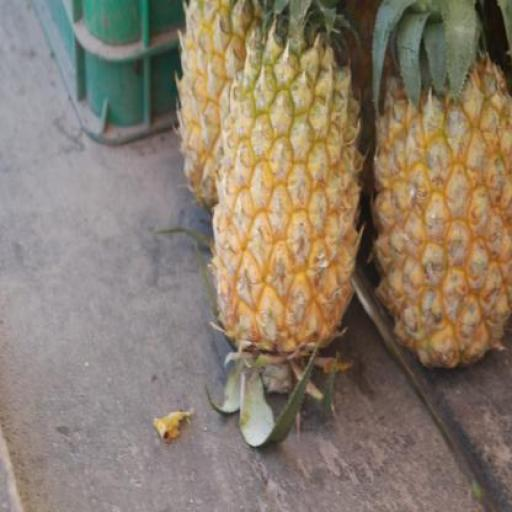Pineapple - v8 v1: (216, 38, 360, 362), (371, 55, 511, 370), (180, 0, 280, 218)
